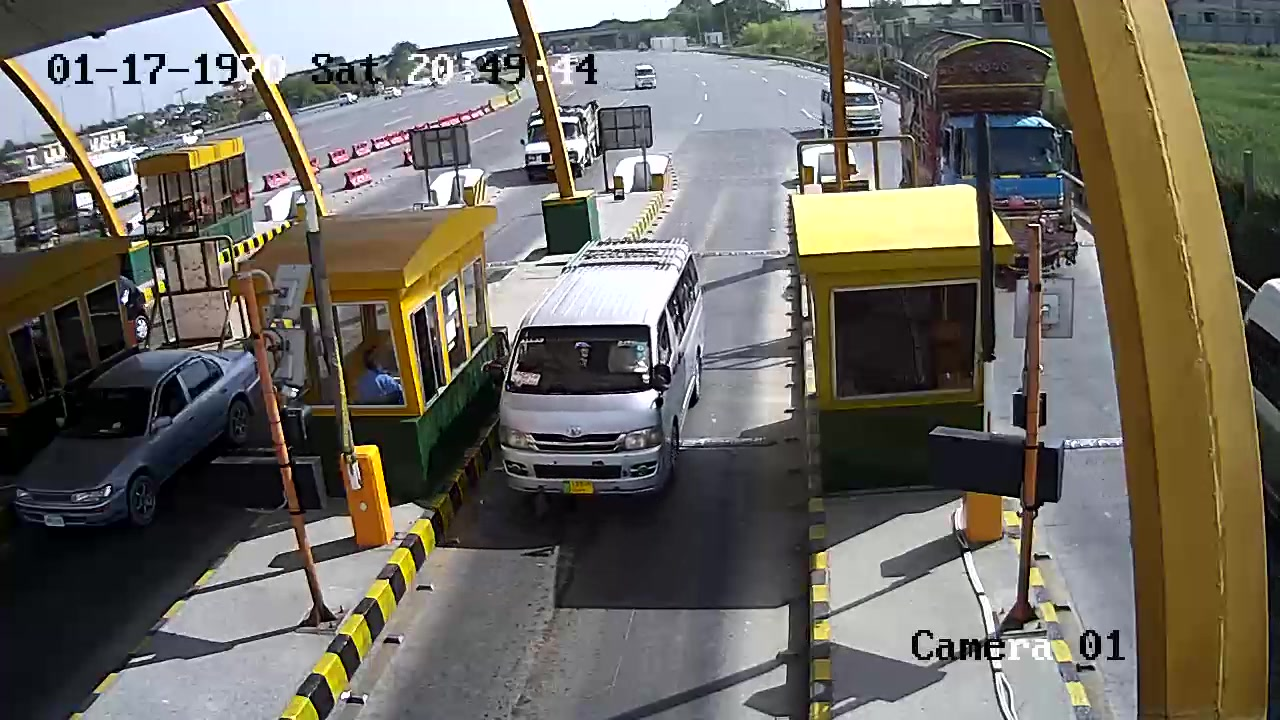F3: (499, 232, 725, 504)
